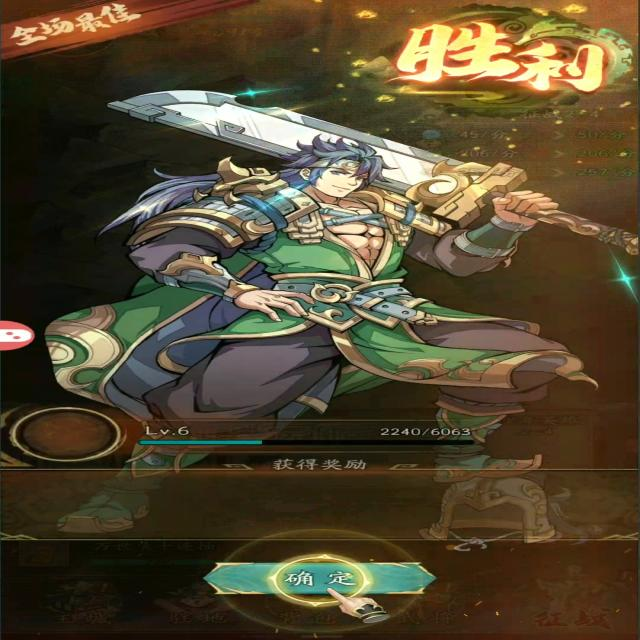hint-guide: (273, 548, 375, 608)
operation-confirm: (182, 555, 456, 601)
